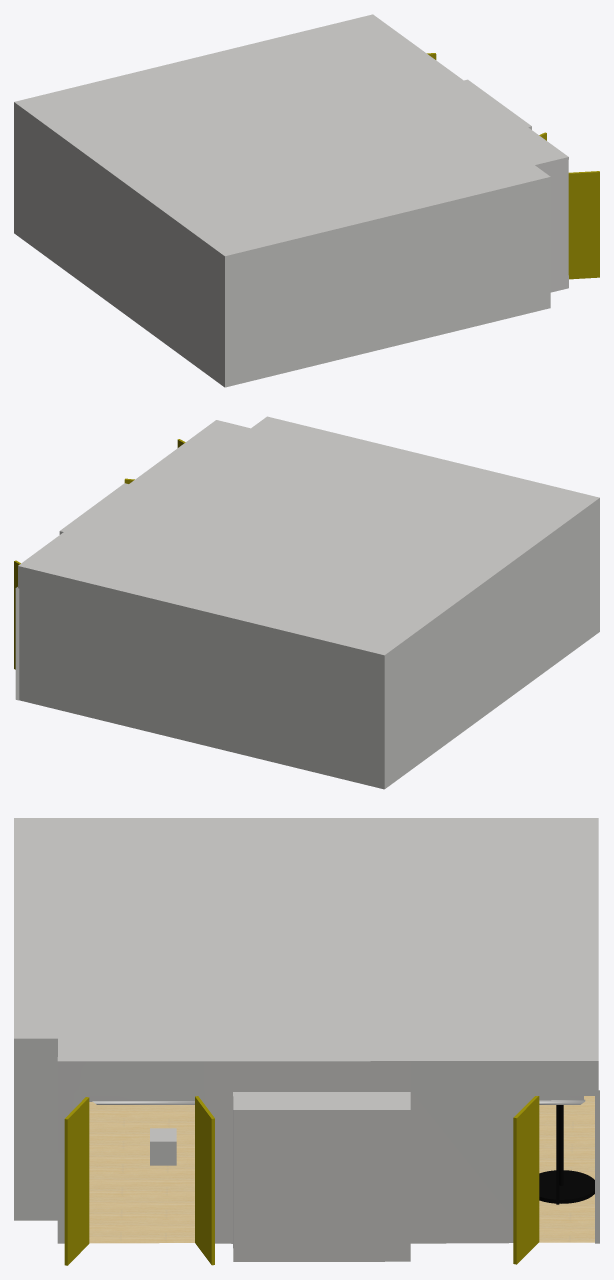
File: DemoRoom.glb
3 views of the same model, one above another, from view 1: azimuth 30°, elevation 25°; view 2: azimuth 150°, elevation 25°; view 3: azimuth 270°, elevation 25° (orthographic). The views are drawn at different scales.
Parts seen in each view (by area): view 1: Room, Doors; view 2: Room; view 3: Room, Floor, Doors, Stanchions, Сeiling, Projector.
Part boxes in pixels (bbox=[...]): Room: bbox=[14, 14, 568, 387]; Doors: bbox=[427, 53, 599, 279]; Room: bbox=[15, 416, 599, 789]; Room: bbox=[14, 818, 599, 1261]; Floor: bbox=[89, 1096, 594, 1243]; Doors: bbox=[64, 1096, 539, 1265]; Stanchions: bbox=[539, 1105, 594, 1204]; Сeiling: bbox=[86, 1096, 585, 1104]; Projector: bbox=[150, 1128, 176, 1165].
Size of the model in its own units: 10.89 by 3.48 by 10.12.
6 materials, 1 textured.
